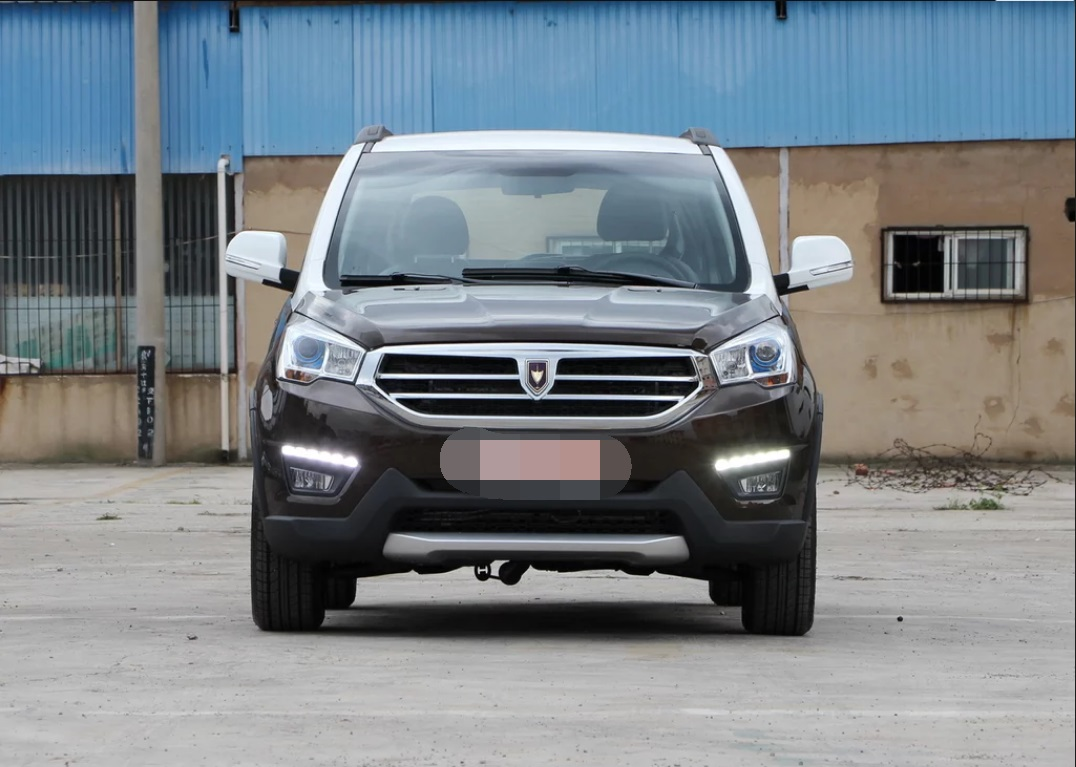SUV: (222, 122, 854, 645)
